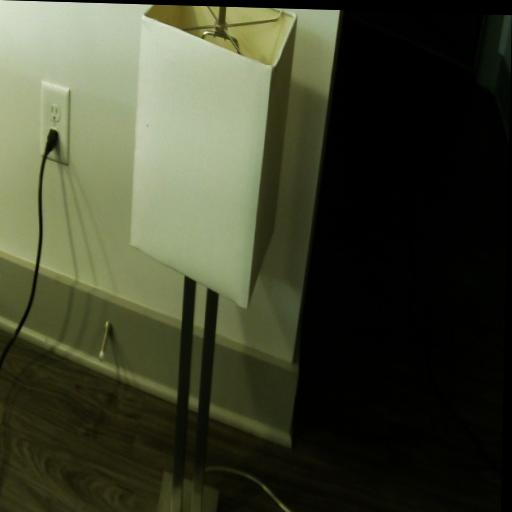lamp: (123, 4, 298, 512)
